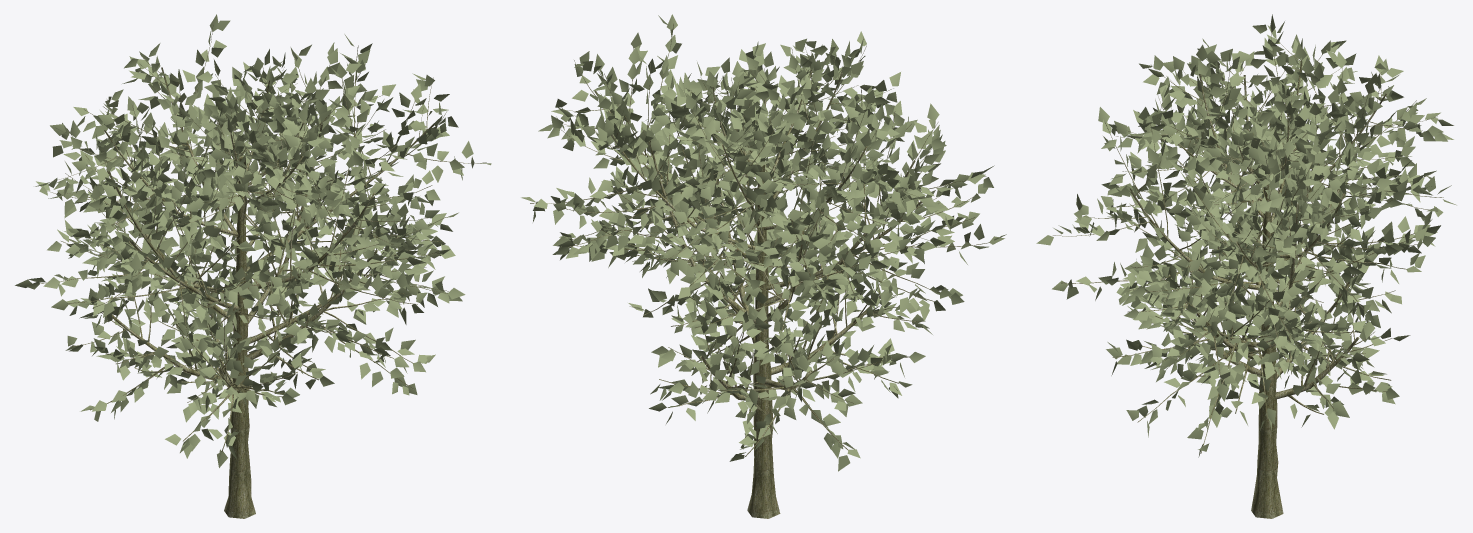
The model's file is tree.glb.
3 renders of one model, left to right at view 1: azimuth 30°, elevation 25°; view 2: azimuth 150°, elevation 25°; view 3: azimuth 270°, elevation 25°, orthographic. The views are drawn at different scales.
Visible parts, largest first — view 1: tree00; view 2: tree00; view 3: tree00.
Boxes of the visible parts, left/top/right/bottom form: tree00: left=15, top=14, right=491, bottom=518; tree00: left=521, top=14, right=1006, bottom=518; tree00: left=1036, top=14, right=1456, bottom=518.
Bounding box in the file's own units: 6.18 × 5.96 × 5.02.
2 materials, 1 textured.
